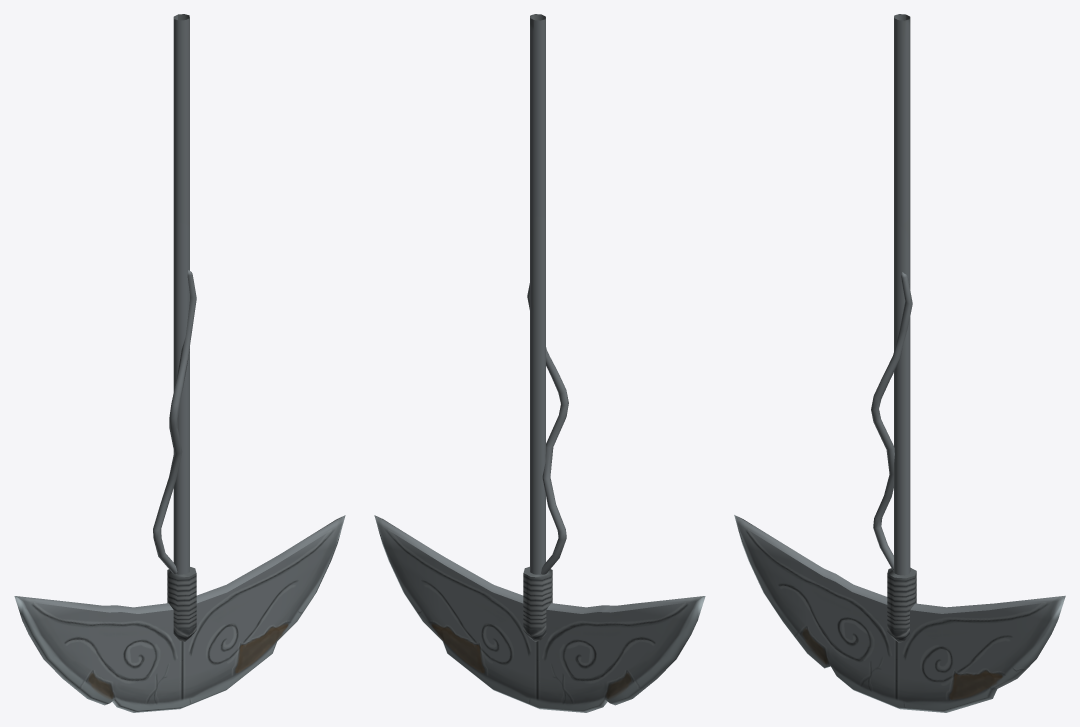
Rendered from Pendulum.fbx.
The picture shows the model from 3 angles, left to right: view 1: azimuth 30°, elevation 25°; view 2: azimuth 150°, elevation 25°; view 3: azimuth 330°, elevation 25°; orthographic projection.
Visible parts, largest first — view 1: Pendulum_PendulumBlade2, PendulumPole, PendulumDecor; view 2: Pendulum_PendulumBlade2, PendulumPole, PendulumDecor; view 3: Pendulum_PendulumBlade2, PendulumPole, PendulumDecor.
Part boxes in pixels (x1=…): Pendulum_PendulumBlade2: x1=14, y1=515, x2=345, y2=712; PendulumPole: x1=173, y1=14, x2=189, y2=574; PendulumDecor: x1=153, y1=270, x2=196, y2=573; Pendulum_PendulumBlade2: x1=374, y1=515, x2=705, y2=712; PendulumPole: x1=530, y1=14, x2=545, y2=574; PendulumDecor: x1=527, y1=283, x2=568, y2=574; Pendulum_PendulumBlade2: x1=734, y1=515, x2=1065, y2=712; PendulumPole: x1=894, y1=14, x2=910, y2=575; PendulumDecor: x1=871, y1=272, x2=912, y2=571.
Bounding box in the file's own units: 21.43 × 42.74 × 2.09.
